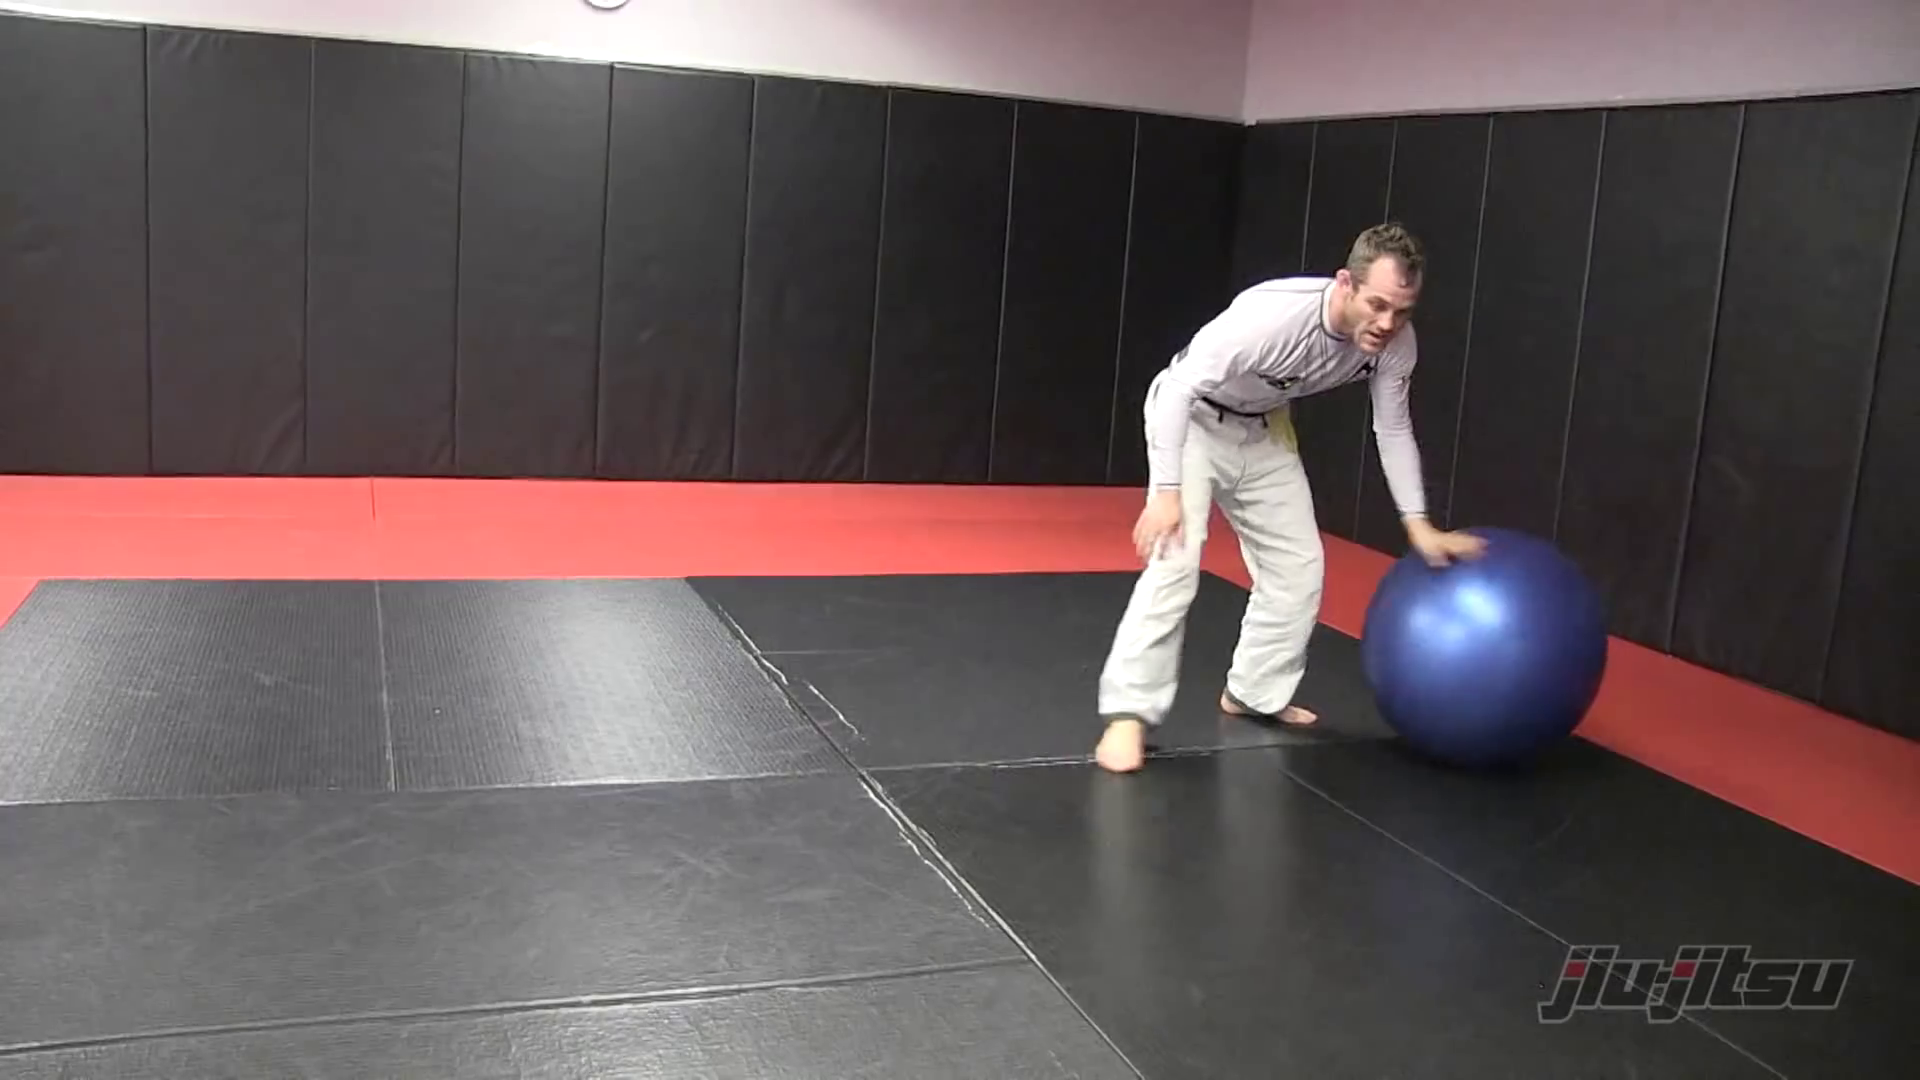yogaball: (1354, 508, 1630, 793)
